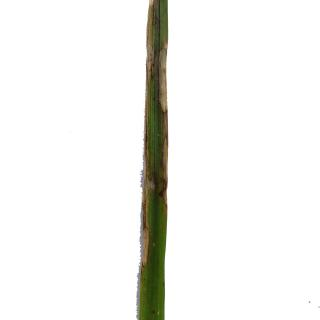Hawar-Daun: (136, 155, 156, 271), (146, 42, 170, 118), (157, 122, 169, 250), (148, 1, 168, 47)
